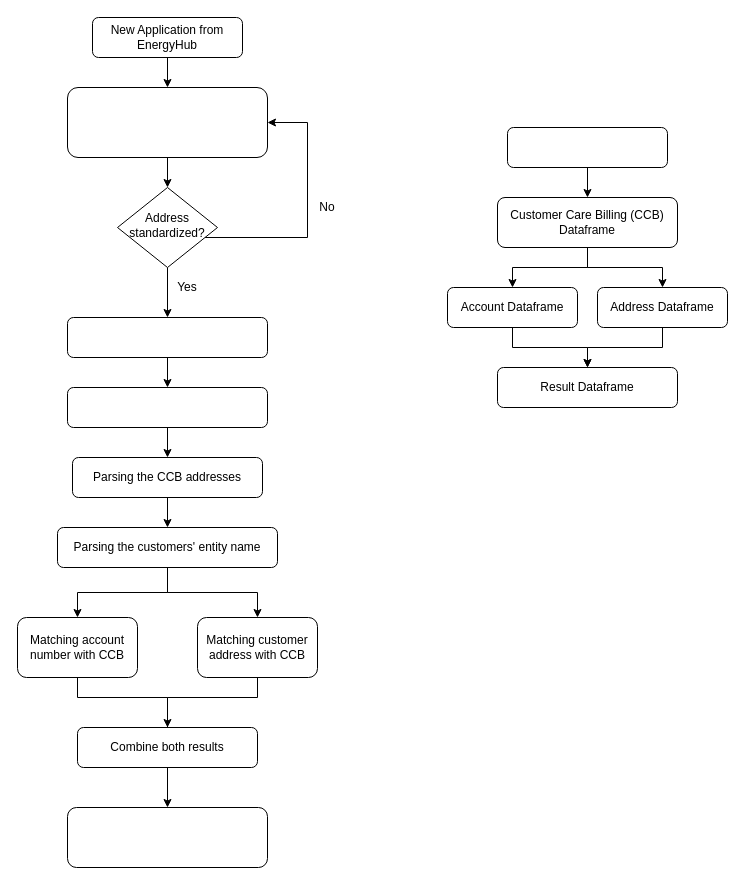
The diagram is 745 pixels wide and 885 high, and some of its shapes have lost their labels. The shapes that lost their labels are listed below. From the top down, each one's centre as x and y in pixels, then its label:
At [167,122]: "Standardize the applicants' address with USPS system Parsing the addresses".
At [587,147]: "Application Dataframe".
At [167,337]: "Parsing USPS addresses".
At [167,407]: "Connect to DER Warehouse".
At [167,837]: "Append final result back to EnergyHub csv file".
